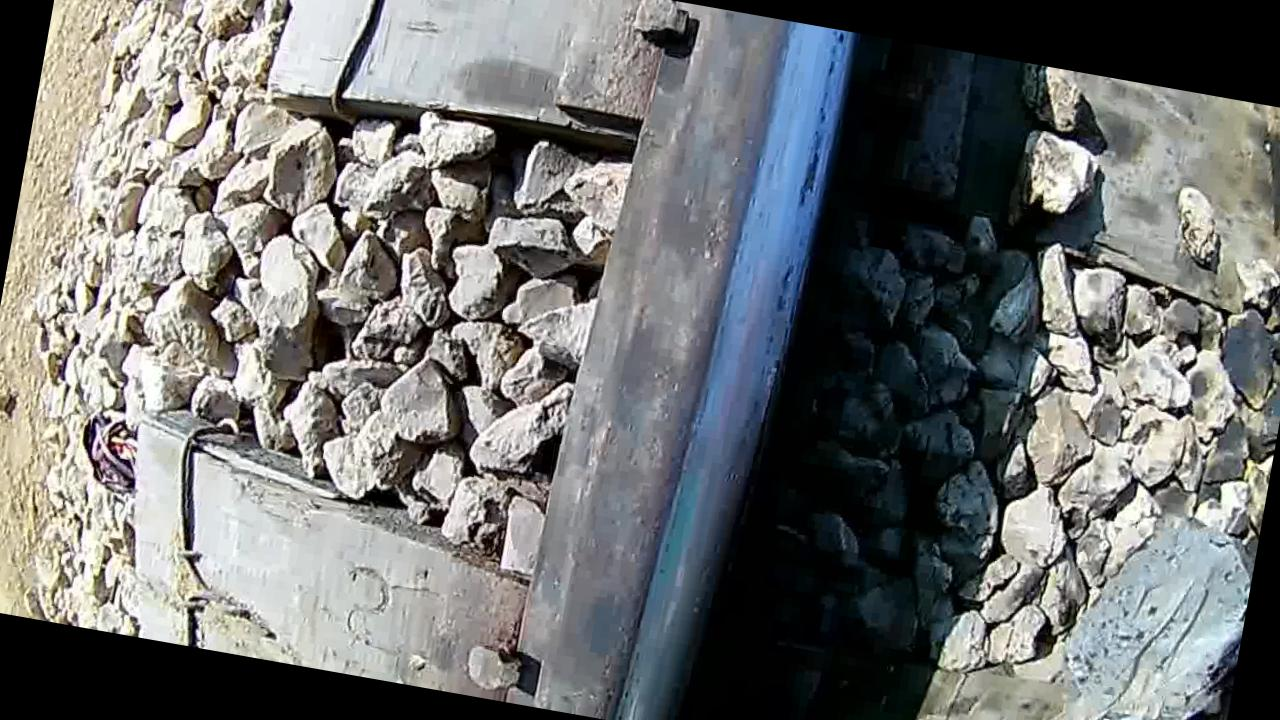crack: (562, 2, 854, 720)
